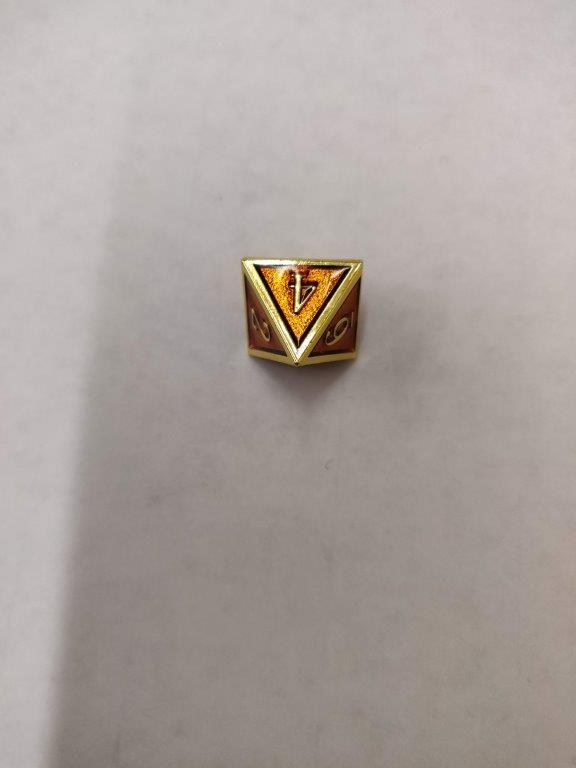d8-4: (241, 255, 363, 368)
